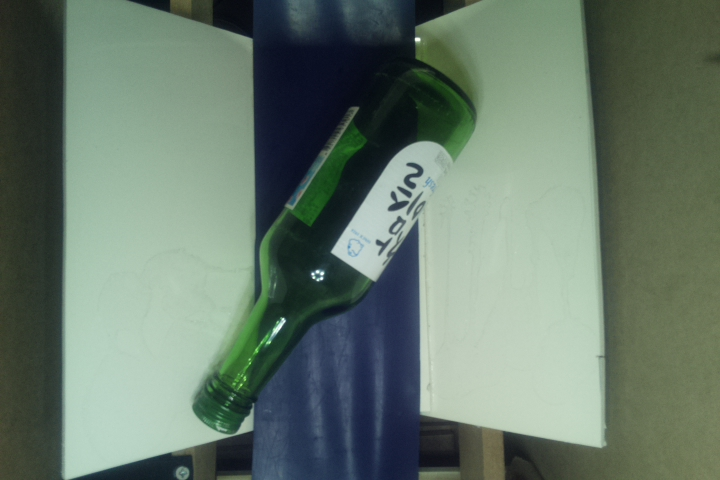soju: (197, 49, 486, 439)
